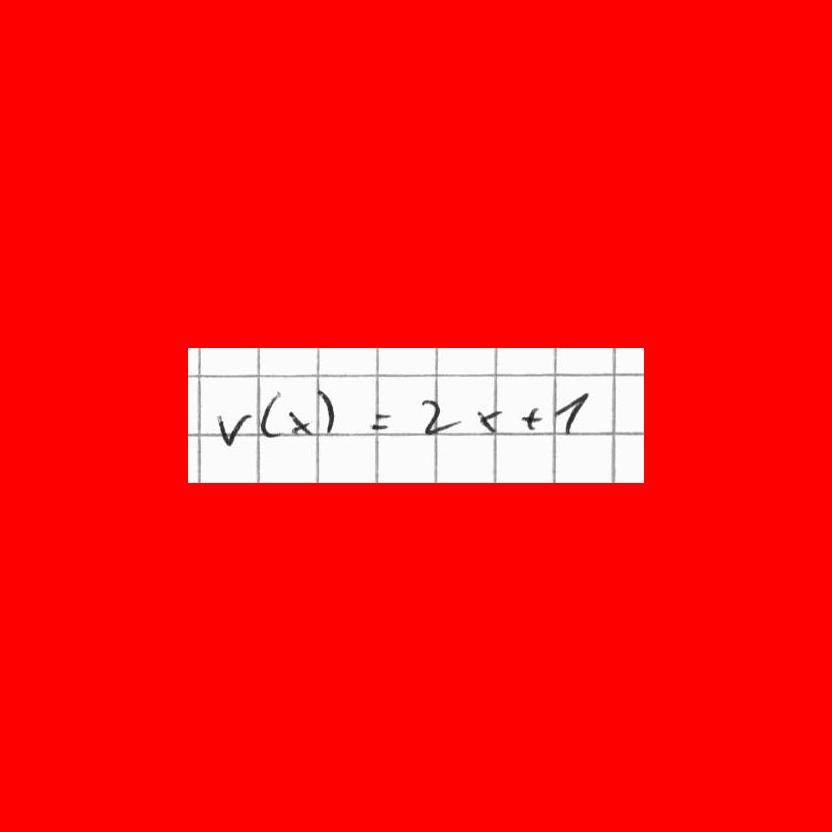Char: (550, 387, 589, 437), (417, 395, 461, 438), (215, 408, 252, 448), (259, 388, 281, 438), (315, 387, 337, 435), (476, 405, 504, 434), (520, 404, 543, 434), (289, 410, 313, 436), (368, 409, 393, 430)
